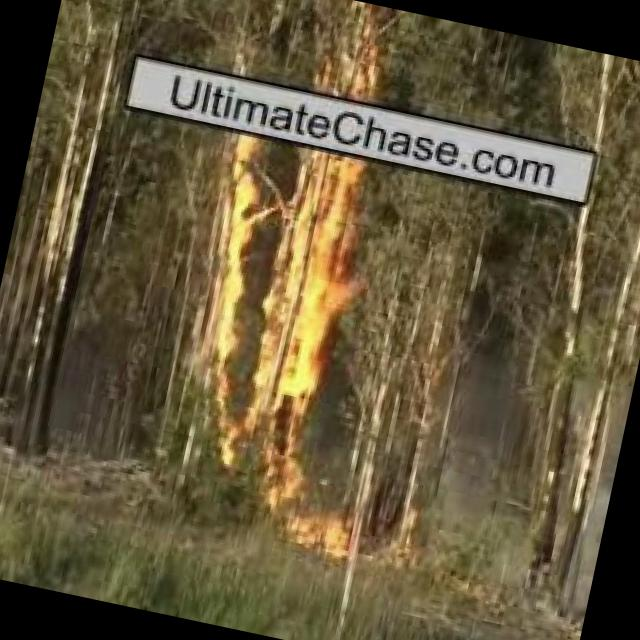Fire: (164, 132, 374, 480), (312, 18, 404, 108), (259, 502, 373, 566)
